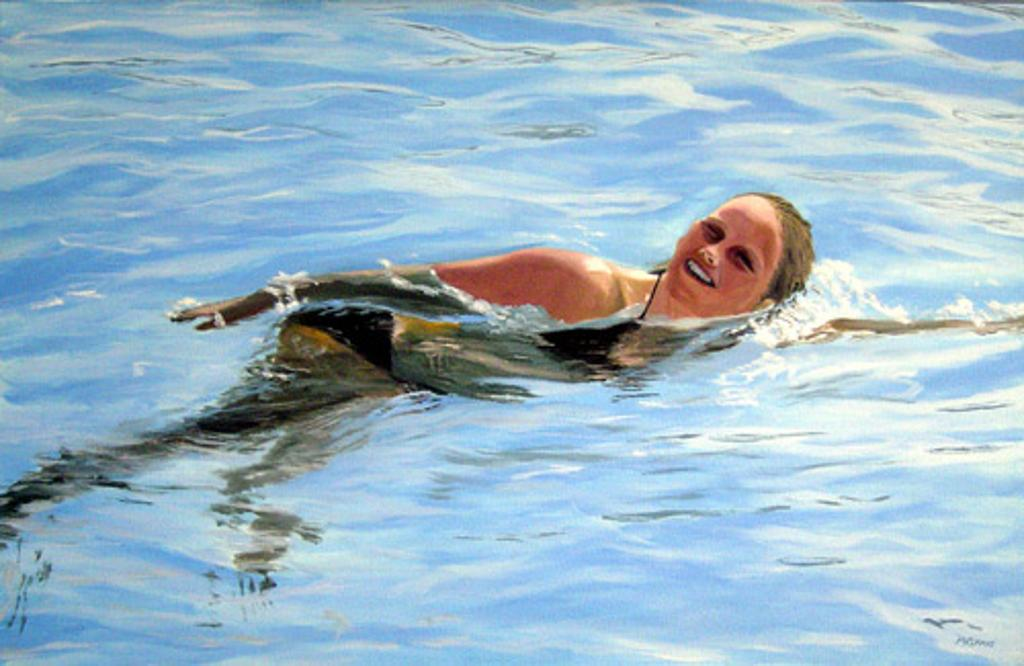face: (670, 208, 766, 310)
